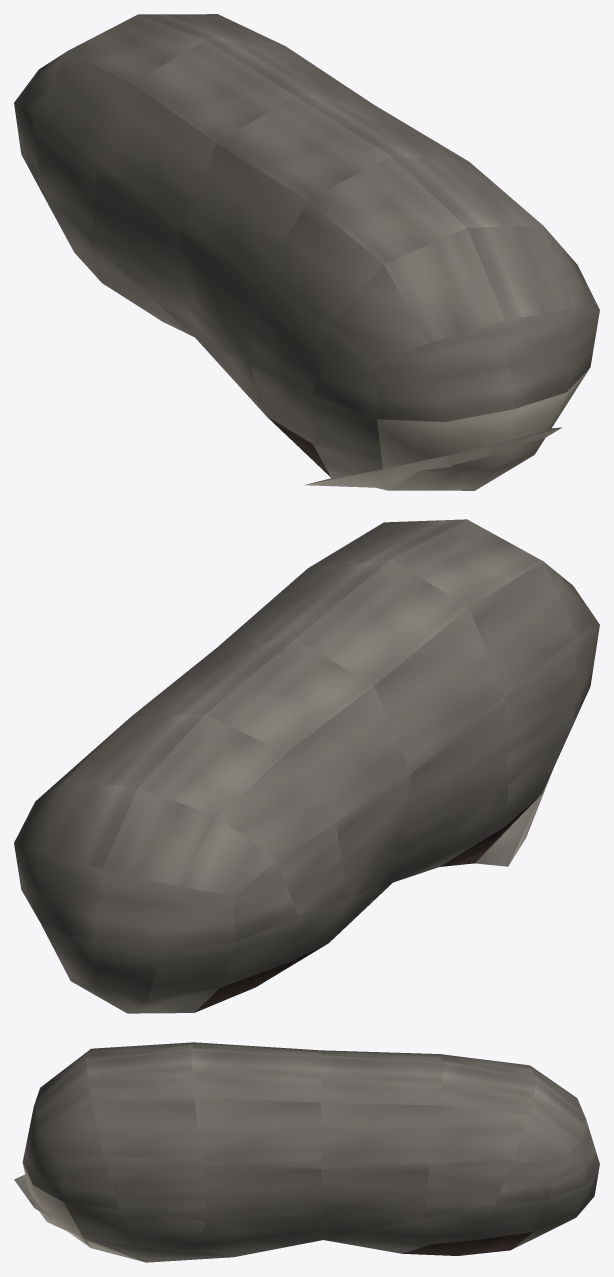
File: SM_Wolf_Body.fbx
3 views of the same model, one above another, from view 1: azimuth 30°, elevation 25°; view 2: azimuth 150°, elevation 25°; view 3: azimuth 270°, elevation 25° (orthographic). The views are drawn at different scales.
Parts seen in each view (by area): view 1: SM_Wolf_Body; view 2: SM_Wolf_Body; view 3: SM_Wolf_Body.
Part boxes in pixels (x1,y1,x2,y2): SM_Wolf_Body: [14, 14, 599, 490]; SM_Wolf_Body: [14, 519, 599, 1013]; SM_Wolf_Body: [14, 1042, 599, 1262].
Bounding box in the file's own units: 1.48 × 1.6 × 4.2.
Materials: 1 (1 with a texture image).
